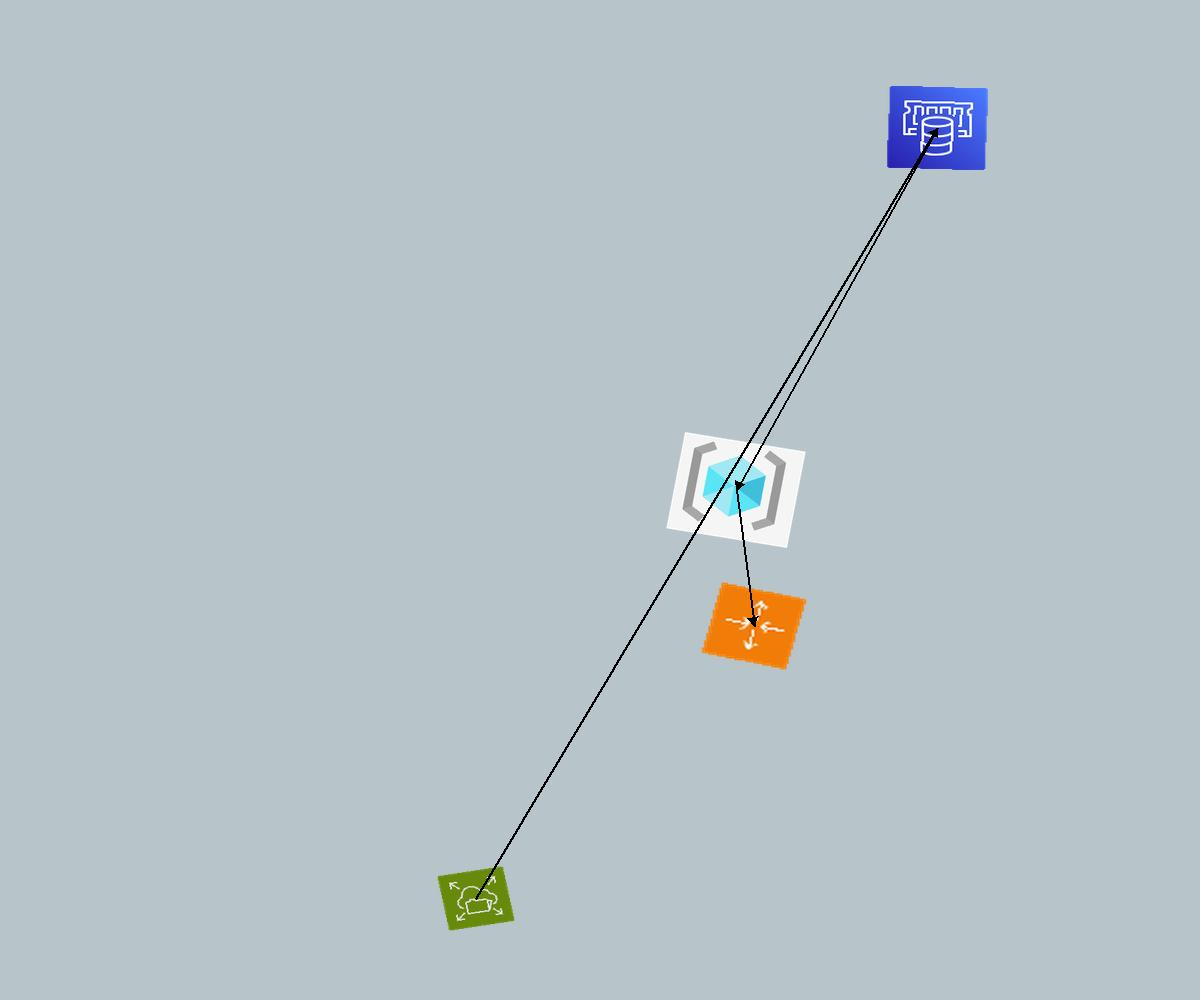AWS-EFS: (437, 866, 515, 931)
AWS-ElastiCache: (886, 85, 989, 171)
AWS-Scaling-group: (700, 581, 808, 671)
Azure_resource_group: (666, 432, 806, 548)
